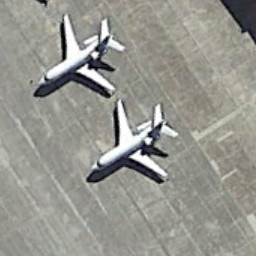Airplane: (82, 98, 189, 201), (24, 4, 129, 101)
